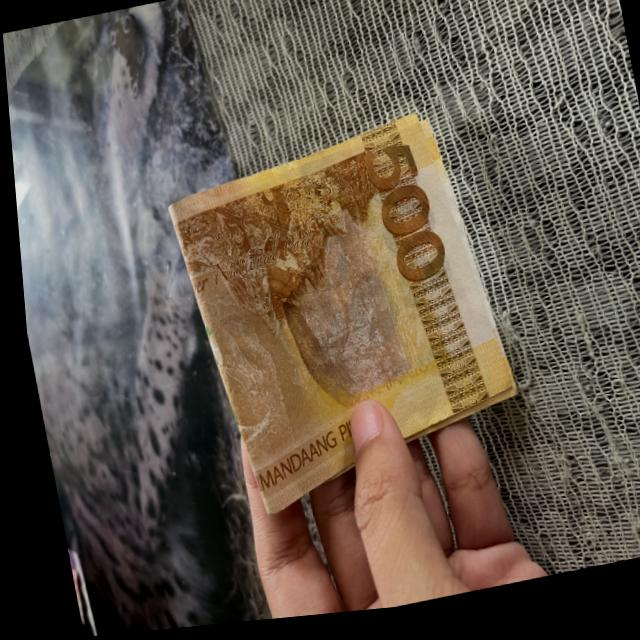value: (356, 144, 446, 299)
